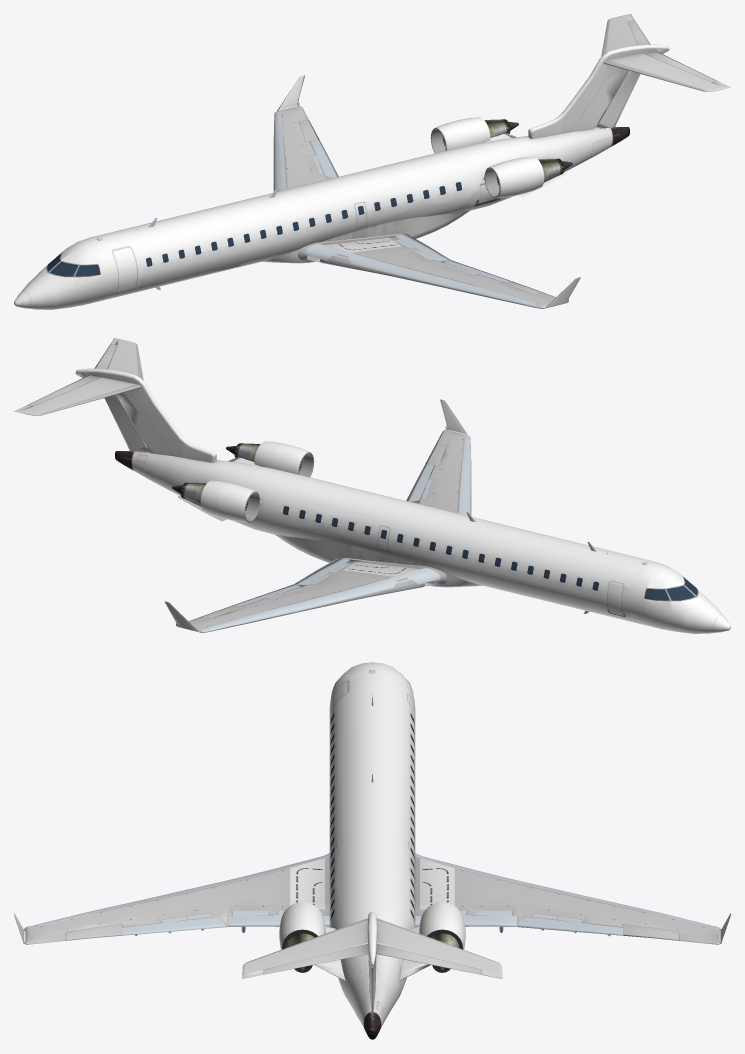
Rendered from crj700-cruise.glb.
3 views of the same model, one above another, from view 1: azimuth 30°, elevation 25°; view 2: azimuth 150°, elevation 25°; view 3: azimuth 270°, elevation 25° (orthographic). The views are drawn at different scales.
Bounding box in the file's own units: 32.46 × 6.09 × 23.29.
5 materials, 2 textured.
